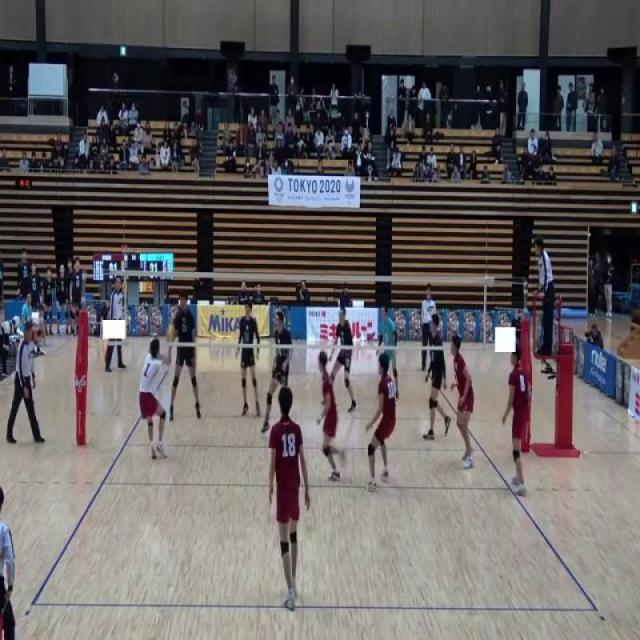volleyball: (166, 324, 177, 343)
